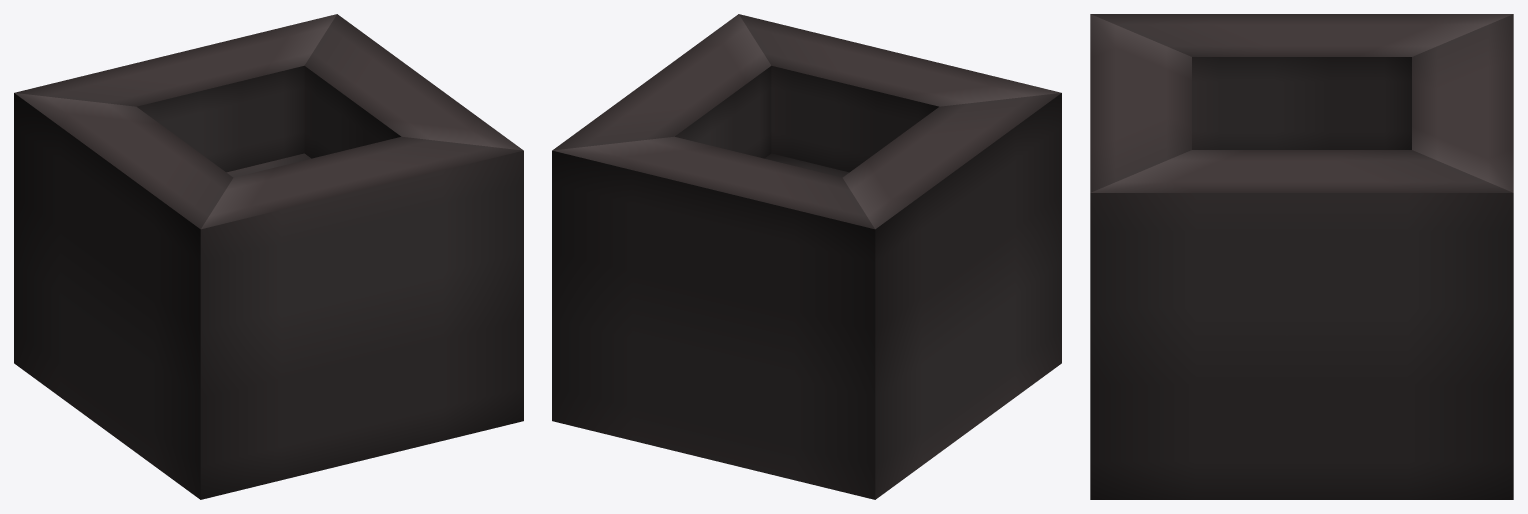
File: Spear_Hole.fbx
3 views of the same model, side by side, from view 1: azimuth 30°, elevation 25°; view 2: azimuth 150°, elevation 25°; view 3: azimuth 270°, elevation 25° (orthographic). The views are drawn at different scales.
Parts seen in each view (by area): view 1: Spear_Hole; view 2: Spear_Hole; view 3: Spear_Hole.
Boxes of the visible parts, x1,y1,x2,y2 form: Spear_Hole: [14, 14, 523, 499]; Spear_Hole: [552, 14, 1061, 499]; Spear_Hole: [1090, 14, 1513, 499].
Bounding box in the file's own units: 25 × 20 × 25.
Materials: 1 (1 with a texture image).
